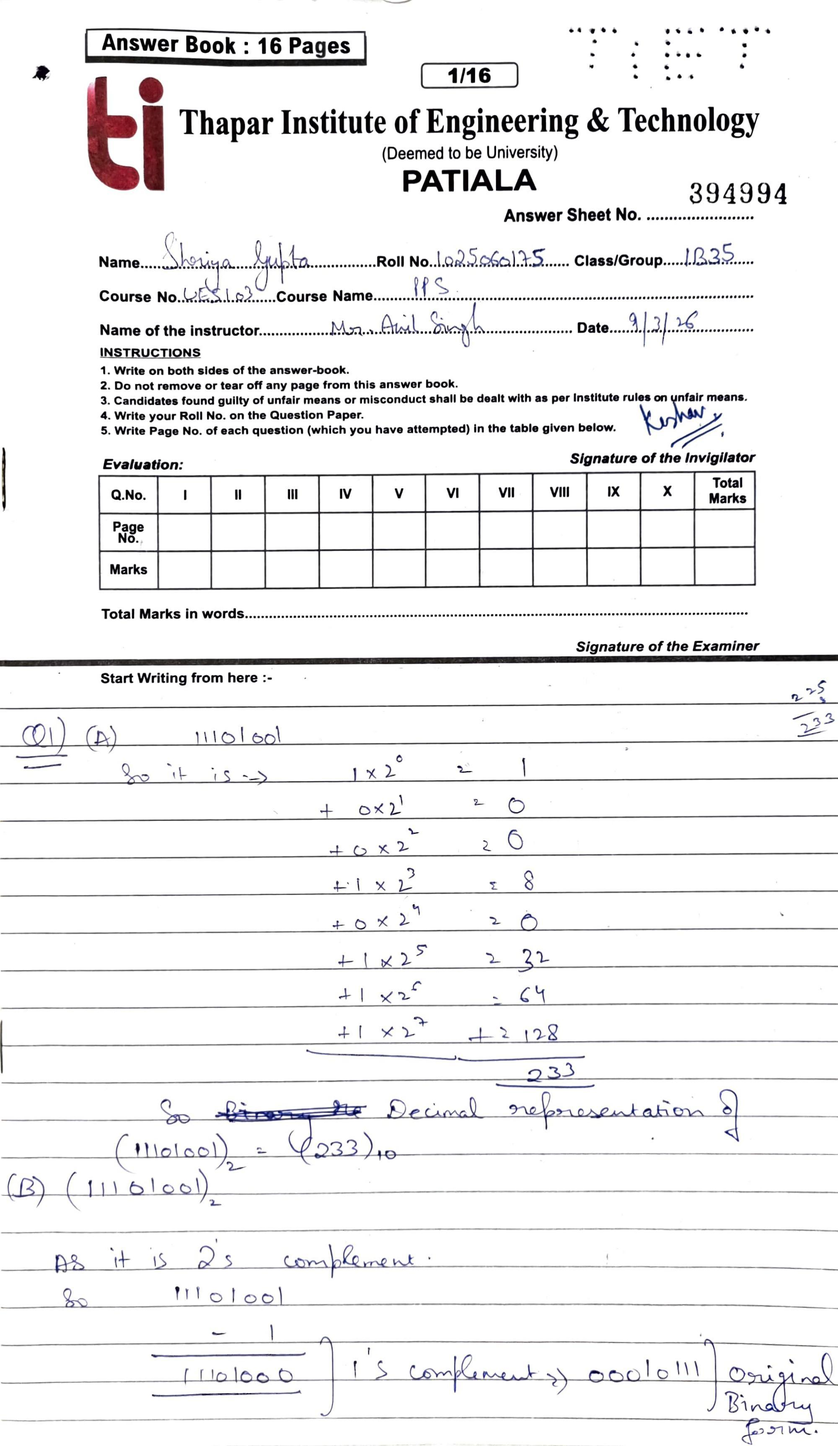cuttings: (212, 1098, 370, 1134)
